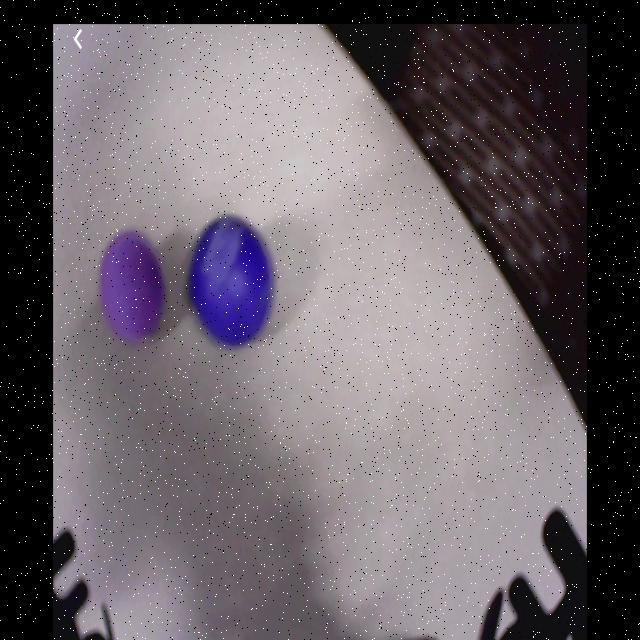ball: (185, 212, 272, 344), (100, 231, 164, 339)
